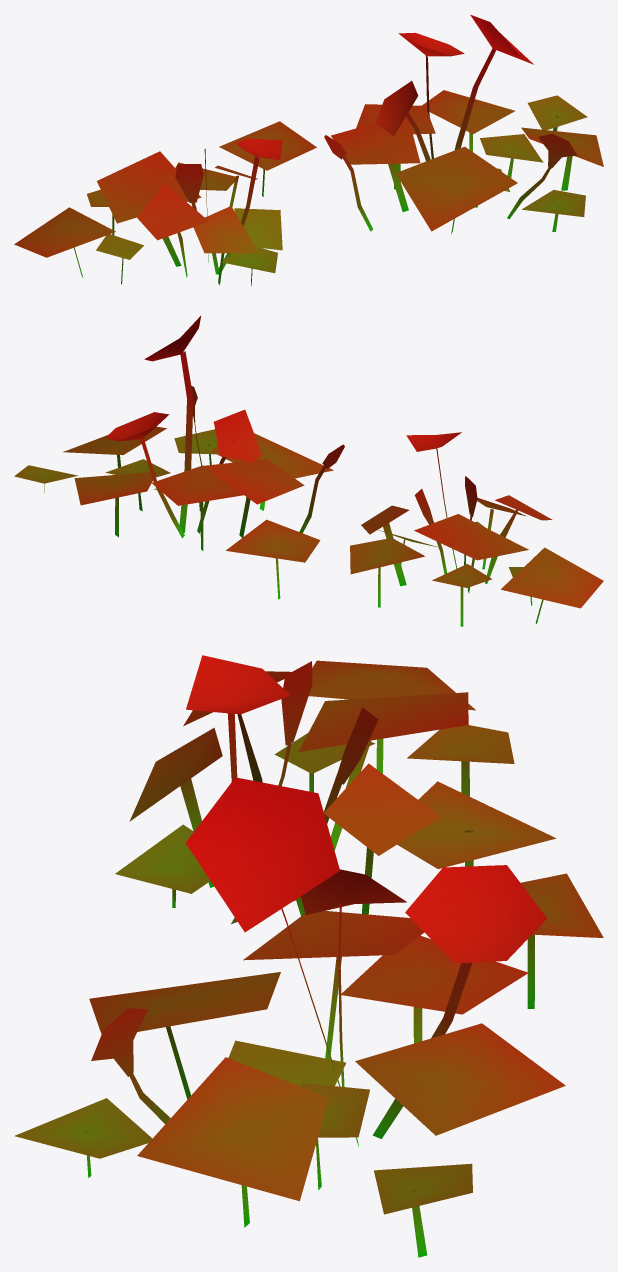
The model's file is Var6_LOD2.fbx.
3 views of the same model, one above another, from view 1: azimuth 30°, elevation 25°; view 2: azimuth 150°, elevation 25°; view 3: azimuth 270°, elevation 25° (orthographic). The views are drawn at different scales.
Parts seen in each view (by area): view 1: _041c_Var6_LOD2; view 2: _041c_Var6_LOD2; view 3: _041c_Var6_LOD2.
Part boxes in pixels (box(x1,y1,x2,y2)): _041c_Var6_LOD2: box(14, 14, 603, 285); _041c_Var6_LOD2: box(14, 315, 603, 626); _041c_Var6_LOD2: box(14, 655, 603, 1257).
Bounding box in the file's own units: 46.73 × 15.25 × 21.47.
